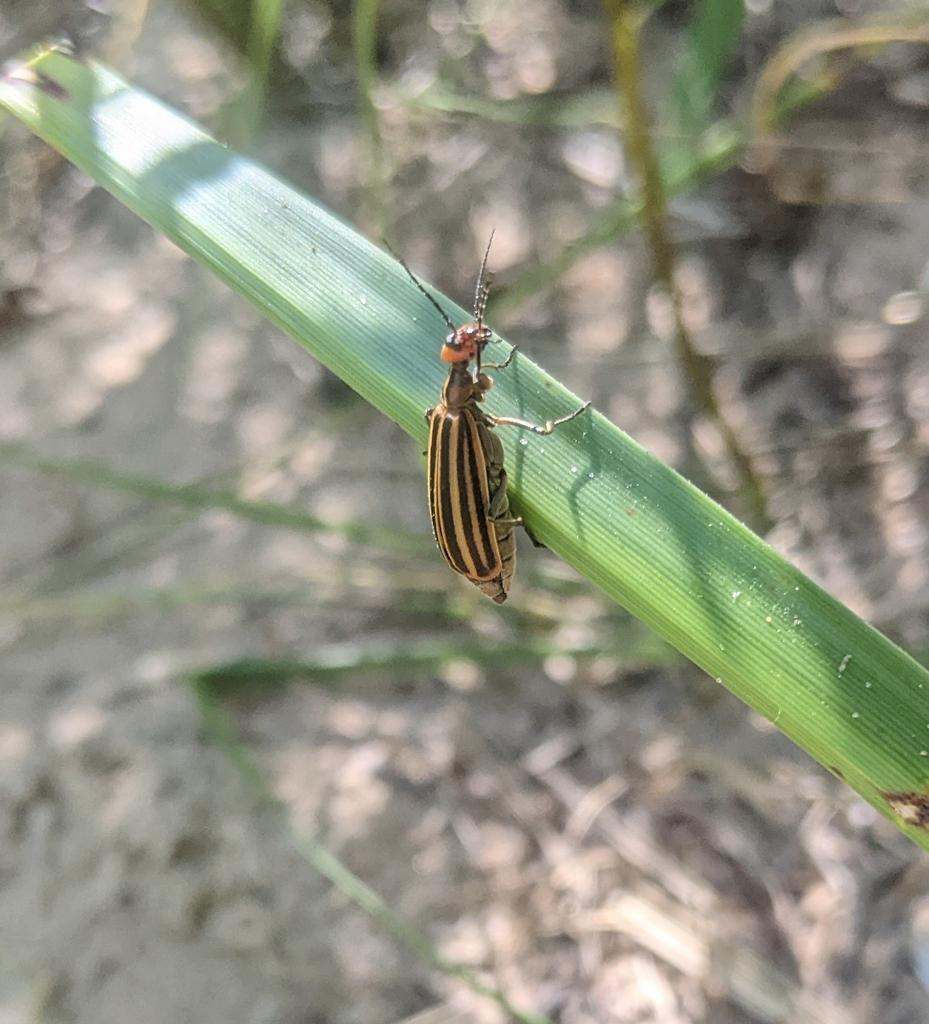blister_beetle: (303, 196, 668, 673)
